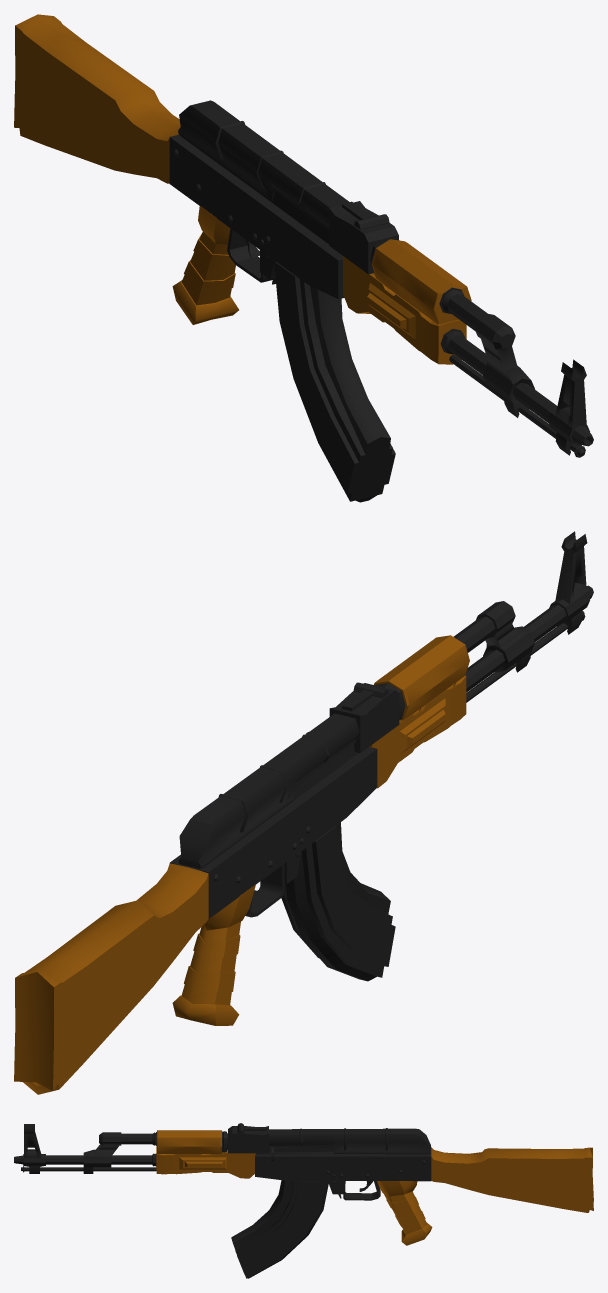
3 views of the same model, one above another, from view 1: azimuth 30°, elevation 25°; view 2: azimuth 150°, elevation 25°; view 3: azimuth 270°, elevation 25° (orthographic). The views are drawn at different scales.
Visible parts, largest first — view 1: sholder, pCube3, pCube5, polySurface1, polySurface5, handGrip, frontGrip, woodPartFront, pCube12, pCylinder3, pCube8; view 2: sholder, pCube3, pCube5, polySurface5, polySurface1, handGrip, woodPartFront, frontGrip, pCube12, pCube8, pCylinder3; view 3: sholder, pCube5, pCube3, polySurface5, polySurface1, frontGrip, handGrip, woodPartFront, pCube12, pCylinder3, pCube8.
Boxes of the visible parts, box(x1,y1,x2,y2) form: sholder: box(14, 14, 180, 183); pCube3: box(274, 260, 395, 502); pCube5: box(169, 134, 344, 299); polySurface1: box(439, 287, 593, 455); polySurface5: box(178, 100, 349, 231); handGrip: box(172, 206, 238, 324); frontGrip: box(342, 256, 466, 364); woodPartFront: box(371, 239, 471, 324); pCube12: box(329, 201, 398, 274); pCylinder3: box(449, 355, 585, 457); pCube8: box(227, 228, 272, 282); sholder: box(14, 863, 208, 1094); pCube3: box(281, 822, 395, 981); pCube5: box(170, 744, 377, 919); polySurface5: box(178, 713, 359, 868); polySurface1: box(453, 531, 593, 692); handGrip: box(172, 884, 255, 1025); woodPartFront: box(374, 635, 469, 720); frontGrip: box(369, 675, 466, 788); pCube12: box(329, 683, 399, 753); pCube8: box(245, 864, 284, 917); pCylinder3: box(466, 611, 585, 702); sholder: box(431, 1147, 593, 1212); pCube5: box(255, 1147, 431, 1181); pCube3: box(231, 1180, 328, 1278); polySurface5: box(269, 1128, 430, 1154); polySurface1: box(14, 1124, 156, 1173); frontGrip: box(156, 1147, 255, 1178); handGrip: box(377, 1181, 432, 1245); woodPartFront: box(156, 1130, 221, 1153); pCube12: box(228, 1126, 268, 1153); pCylinder3: box(21, 1166, 156, 1172); pCube8: box(343, 1181, 380, 1200).
Size of the model in its own units: 0.8092 by 3.71 by 12.83.
